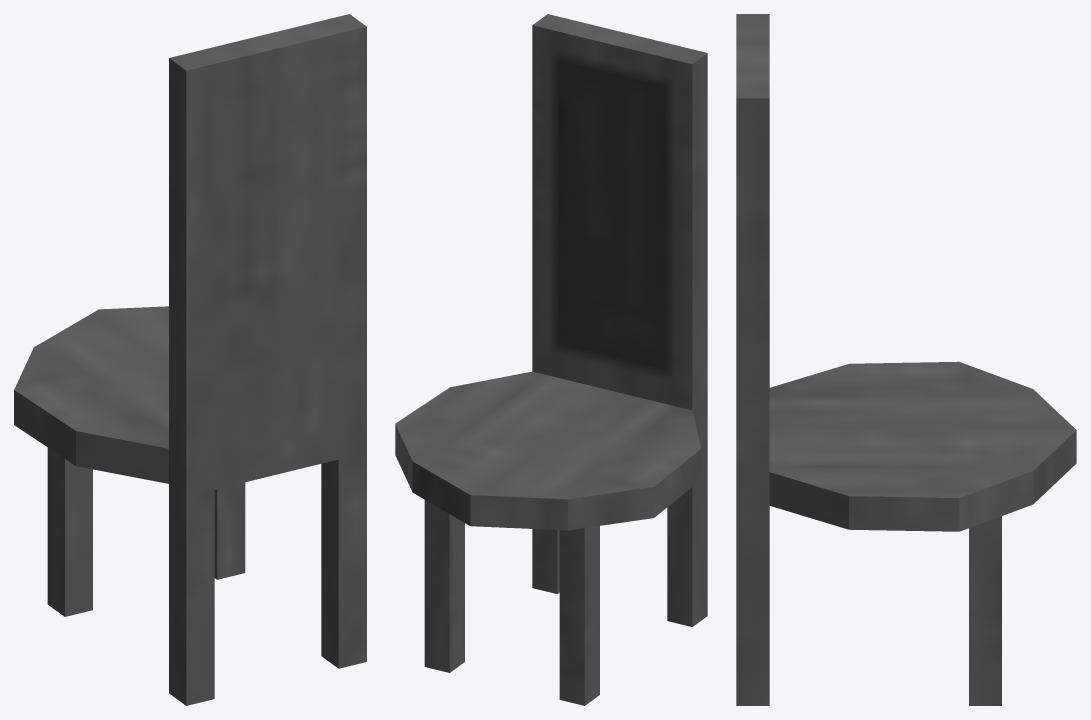
File: chair.fbx
3 renders of one model, left to right at view 1: azimuth 30°, elevation 25°; view 2: azimuth 150°, elevation 25°; view 3: azimuth 270°, elevation 25°, orthographic. The views are drawn at different scales.
Visible parts, largest first — view 1: chair; view 2: chair; view 3: chair.
Part boxes in pixels (<box>): chair: <box>14,14,366,705</box>; chair: <box>395,14,707,705</box>; chair: <box>736,14,1076,705</box>.
Bounding box in the file's own units: 190 × 395 × 200.
